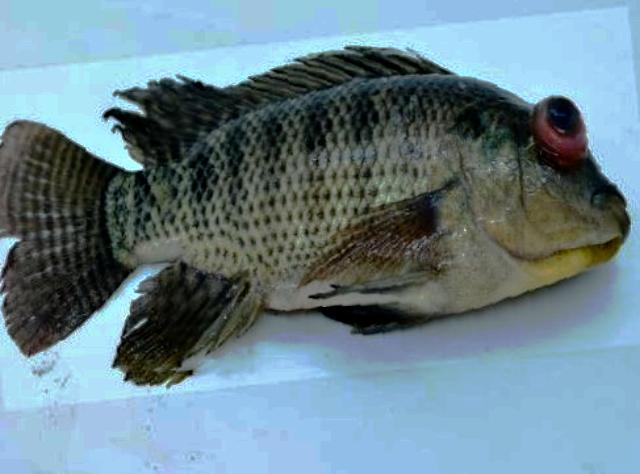Streptococcus: (0, 47, 629, 384)
